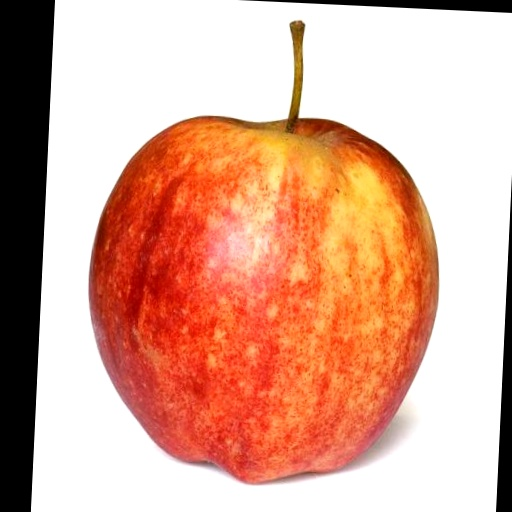fruit: (89, 23, 438, 481)
